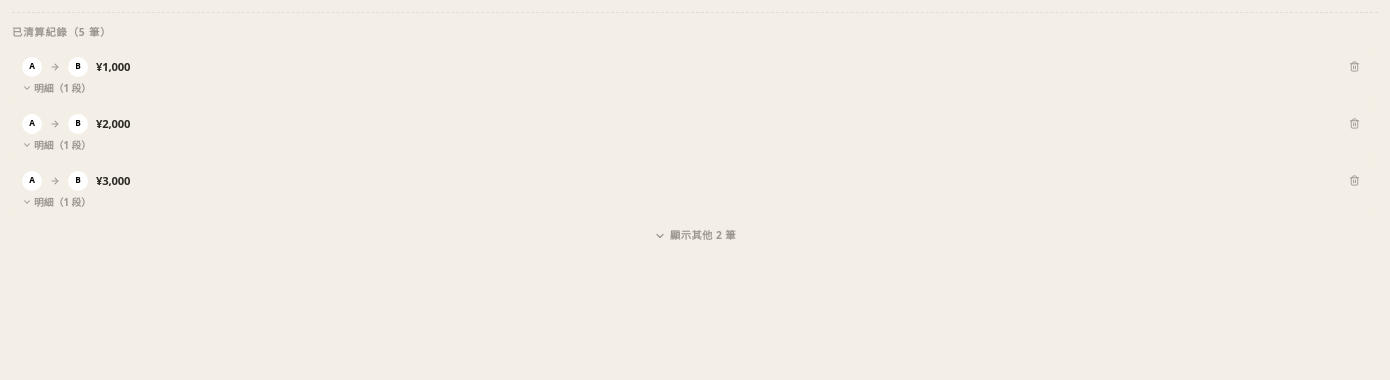
Test: SettlementHistory — fold › shows only the most recent 3 routes, expanding to all on tap
Expected: the number of buttons named "刪除清算紀錄" is 3, [1341,55,1368,79]; [1341,112,1368,136]; [1341,169,1368,193]
Click the button "顯示其他 2 筆" at (695, 236), box [12,222,1378,250]
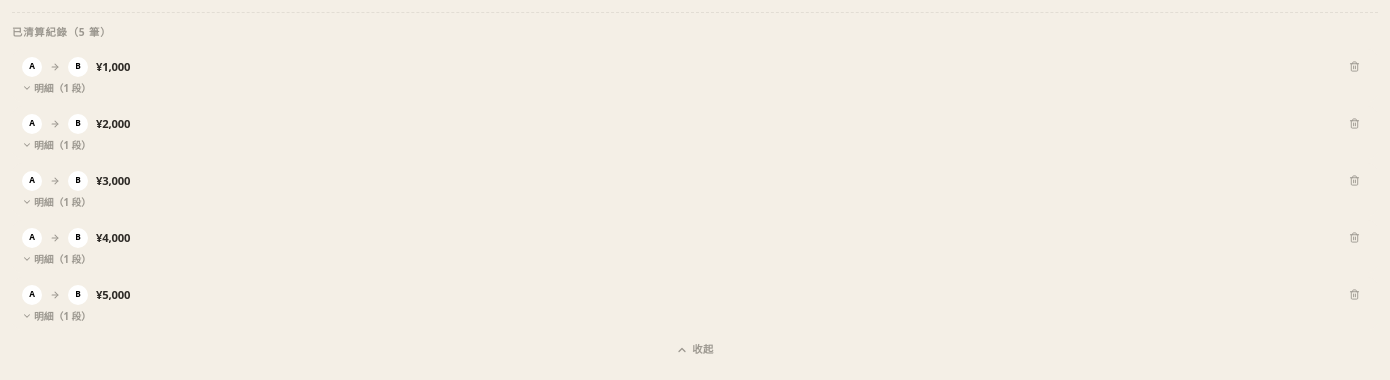
Expected: the number of buttons named "刪除清算紀錄" is 5, [1341,55,1368,79]; [1341,112,1368,136]; [1341,169,1368,193]; [1341,226,1368,250]; [1341,283,1368,307]
Expected: the button "收起" is shown, [12,336,1378,364]
